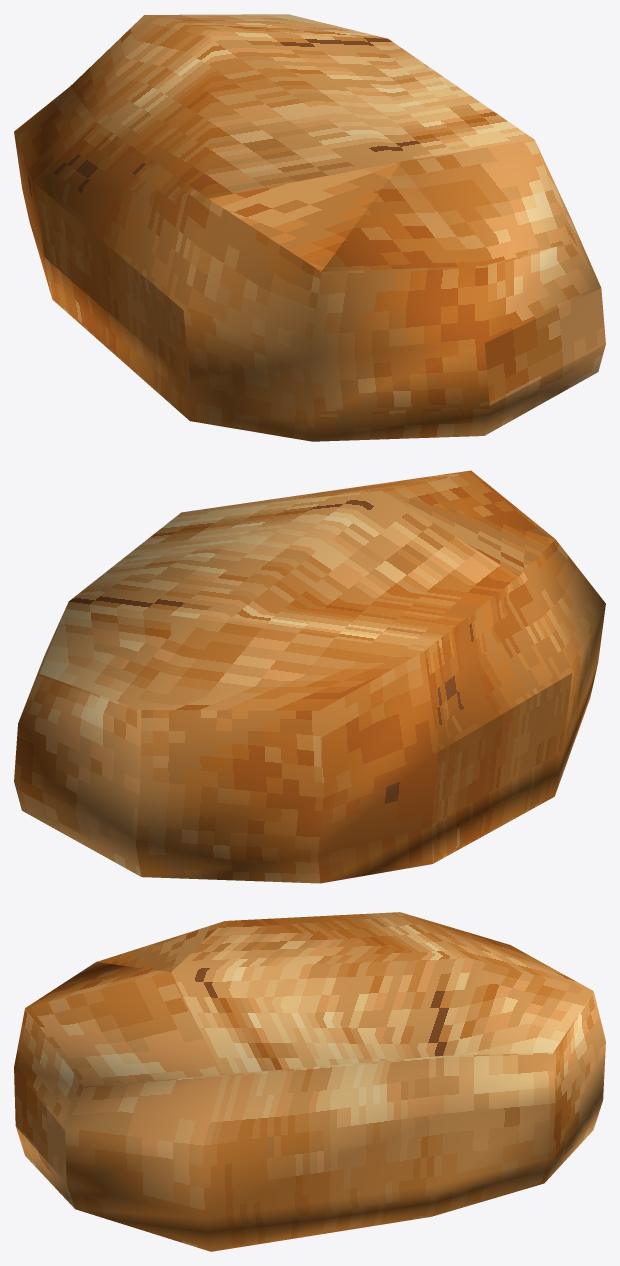
The model's file is bread.glb.
3 renders of one model, top to bottom at view 1: azimuth 30°, elevation 25°; view 2: azimuth 150°, elevation 25°; view 3: azimuth 270°, elevation 25°, orthographic. The views are drawn at different scales.
Parts seen in each view (by area): view 1: bread; view 2: bread; view 3: bread.
Boxes of the visible parts, bbox=[...] form: bread: bbox=[14, 14, 605, 441]; bread: bbox=[14, 470, 605, 883]; bread: bbox=[14, 912, 605, 1251].
Size of the model in its own units: 0.3072 by 0.1798 by 0.4505.
1 material, 1 textured.
